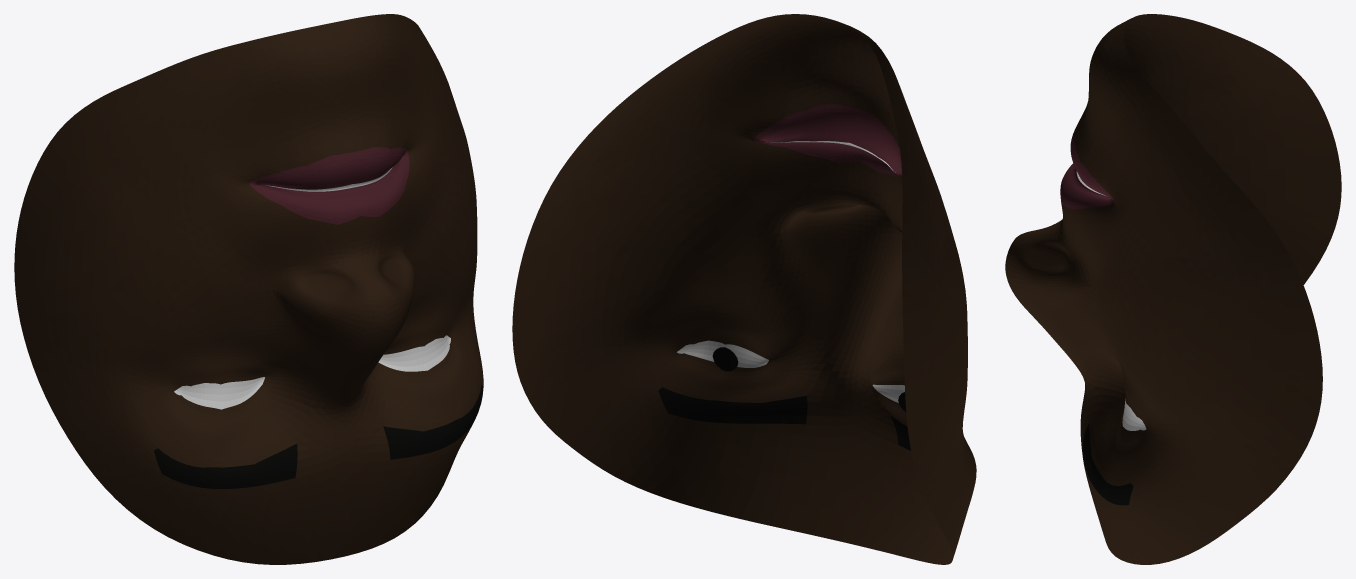
Rendered from VID-20250515-WA0002_f_00048.obj.
The picture shows the model from 3 angles, left to right: view 1: azimuth 30°, elevation 25°; view 2: azimuth 150°, elevation 25°; view 3: azimuth 270°, elevation 25°; orthographic projection. The views are drawn at different scales.
Visible parts, largest first — view 1: face_mesh_subdivided; view 2: face_mesh_subdivided; view 3: face_mesh_subdivided.
Boxes of the visible parts, box(x1,y1,x2,y2) form: face_mesh_subdivided: box(14, 14, 483, 564); face_mesh_subdivided: box(512, 14, 976, 564); face_mesh_subdivided: box(1005, 14, 1341, 564).
Bounding box in the file's own units: 0.4207 × 0.5227 × 0.322.
